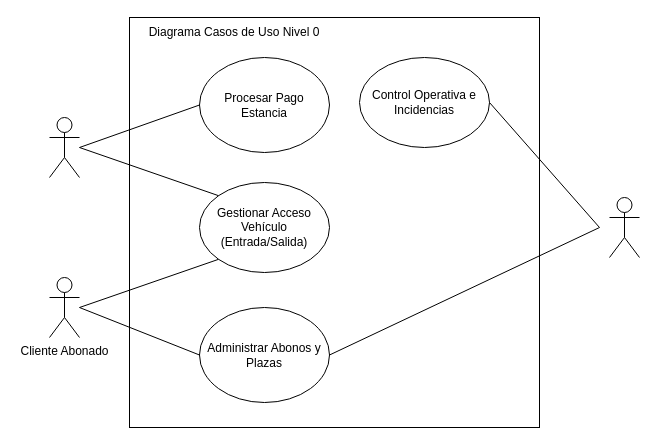
Image size: 665x445. Some labels were removed from this diagram. Each missing label, with the centre of its shape:
"Cliente Ocasional" goes at point 64,147.
"Operario" goes at point 624,227.
